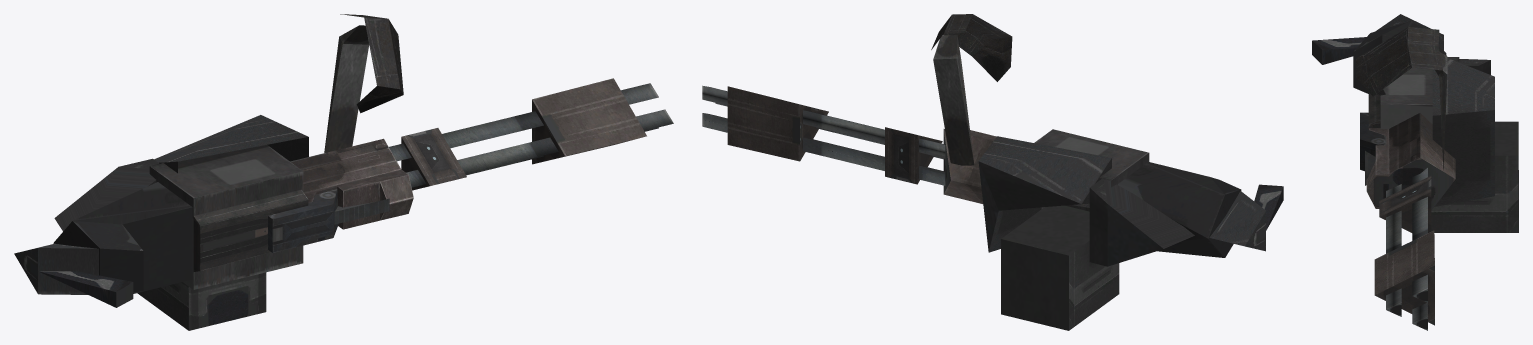
Rendered from t6_wpn_minigun_world_LOD_2.obj.
3 views of the same model, side by side, from view 1: azimuth 30°, elevation 25°; view 2: azimuth 150°, elevation 25°; view 3: azimuth 270°, elevation 25° (orthographic). The views are drawn at different scales.
Visible parts, largest first — view 1: TomGroup_0; view 2: TomGroup_0; view 3: TomGroup_0.
Part boxes in pixels (x1,y1,x2,y2): TomGroup_0: (14,14,673,330); TomGroup_0: (702,14,1283,330); TomGroup_0: (1312,14,1518,330).
Bounding box in the file's own units: 121 × 50.57 × 38.38.
Materials: 1 (1 with a texture image).
